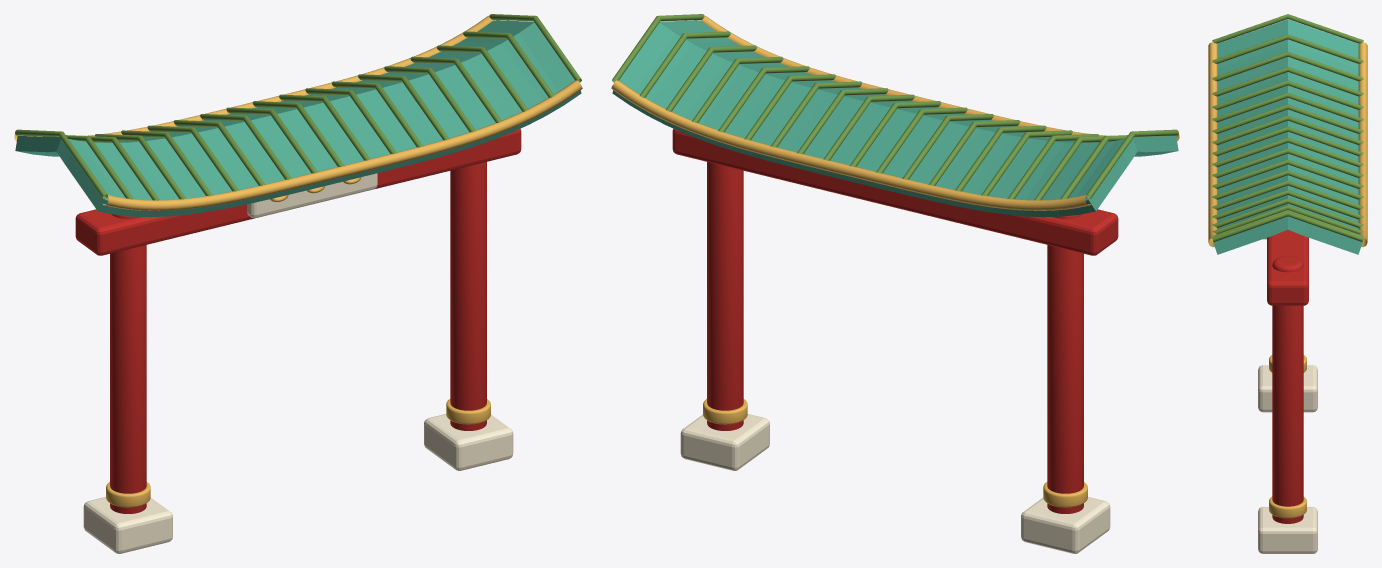
File: stage-wood-arch.glb
The picture shows the model from 3 angles, left to right: view 1: azimuth 30°, elevation 25°; view 2: azimuth 150°, elevation 25°; view 3: azimuth 270°, elevation 25°; orthographic projection. The views are drawn at different scales.
Visible parts, largest first — view 1: stage-wood-arch; view 2: stage-wood-arch; view 3: stage-wood-arch.
Boxes of the visible parts, x1,y1,x2,y2 form: stage-wood-arch: (14,14,582,553); stage-wood-arch: (611,14,1179,553); stage-wood-arch: (1208,14,1367,553).
Size of the model in its own units: 3.99 by 3.32 by 1.33.
